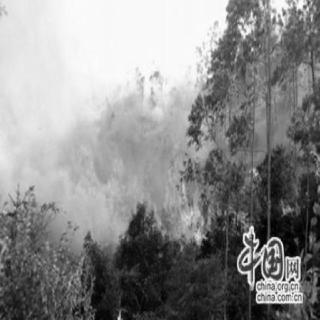Fire: (84, 119, 318, 249)
